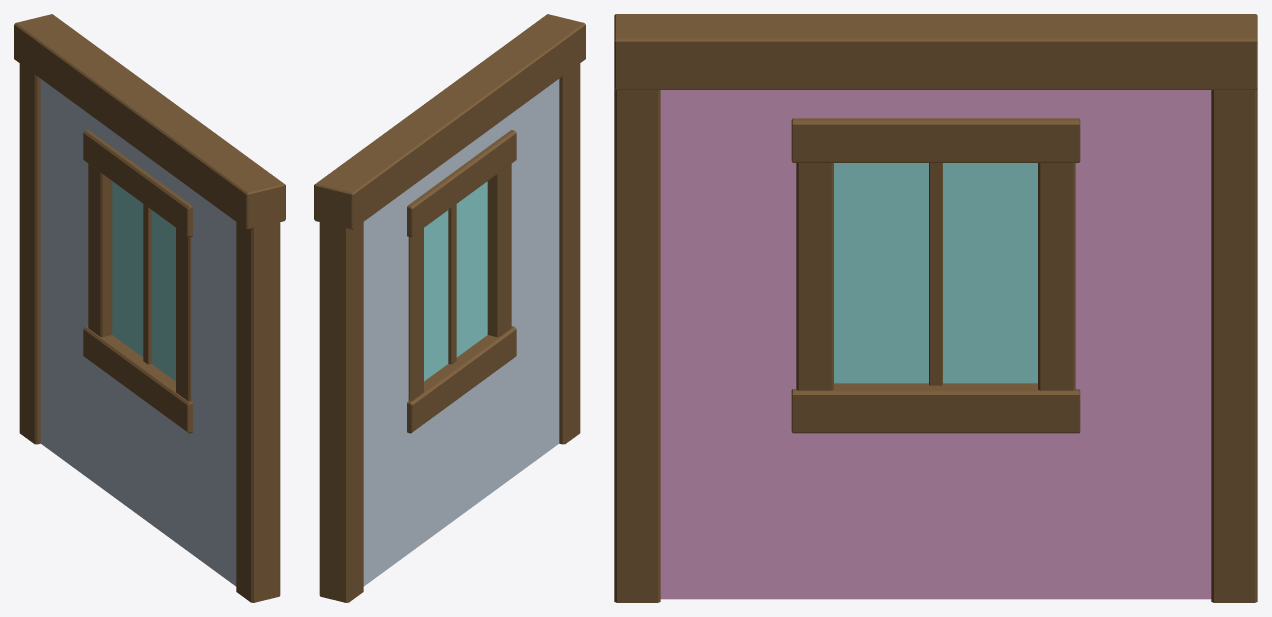
The model's file is Wall_Window02.fbx.
3 views of the same model, side by side, from view 1: azimuth 30°, elevation 25°; view 2: azimuth 150°, elevation 25°; view 3: azimuth 270°, elevation 25° (orthographic). The views are drawn at different scales.
Parts seen in each view (by area): view 1: Cube.053, Cube.057, Cube.054, Cube.064, Cube.055, Cube.061, Cube.058, Cube.060, Cube.059, Cube.063; view 2: Cube.053, Cube.057, Cube.055, Cube.064, Cube.054, Cube.061, Cube.059, Cube.060, Cube.058, Cube.063; view 3: Cube.053, Cube.057, Cube.064, Cube.054, Cube.055, Cube.061, Cube.060, Cube.058, Cube.059, Cube.063.
Boxes of the visible parts, box(x1,y1,x2,y2) form: Cube.053: box(40, 79, 236, 586); Cube.057: box(14, 14, 285, 229); Cube.054: box(236, 204, 280, 602); Cube.064: box(112, 181, 175, 381); Cube.055: box(19, 63, 40, 444); Cube.061: box(83, 326, 192, 433); Cube.058: box(88, 164, 112, 337); Cube.060: box(83, 130, 192, 237); Cube.059: box(176, 228, 191, 401); Cube.063: box(143, 204, 151, 364); Cube.053: box(363, 79, 559, 586); Cube.057: box(314, 14, 585, 229); Cube.055: box(319, 204, 363, 602); Cube.064: box(424, 181, 487, 381); Cube.054: box(559, 63, 580, 444); Cube.061: box(407, 326, 516, 433); Cube.059: box(487, 164, 511, 337); Cube.060: box(407, 130, 516, 237); Cube.058: box(408, 228, 423, 401); Cube.063: box(448, 204, 456, 364); Cube.053: box(660, 90, 1211, 599); Cube.057: box(614, 14, 1257, 89); Cube.064: box(834, 163, 1037, 383); Cube.054: box(614, 89, 660, 602); Cube.055: box(1211, 89, 1257, 602); Cube.061: box(791, 383, 1080, 433); Cube.060: box(791, 118, 1080, 162); Cube.058: box(1038, 163, 1075, 390); Cube.059: box(796, 163, 833, 390); Cube.063: box(929, 163, 942, 385).
Bounding box in the file's own units: 21.15 × 209 × 216.
